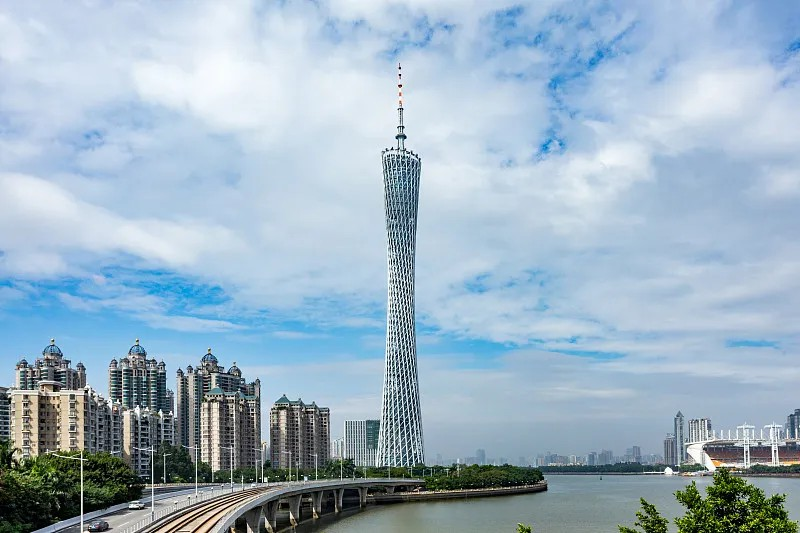Canton: (377, 64, 426, 470)
